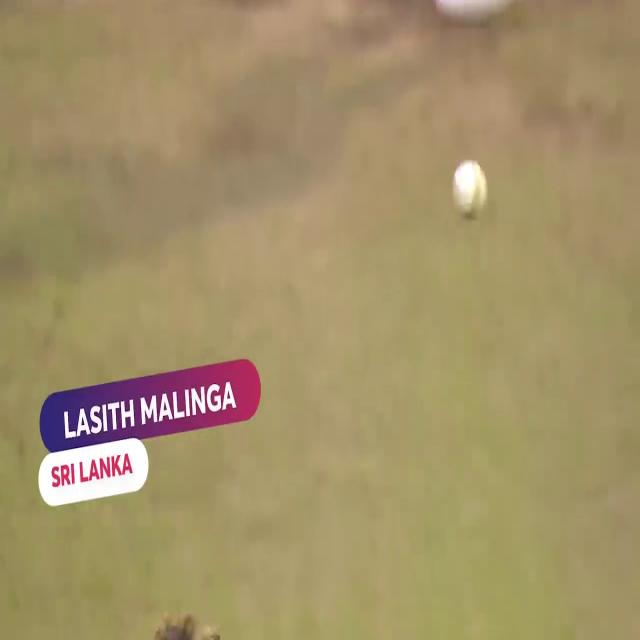ball: (449, 156, 490, 222)
